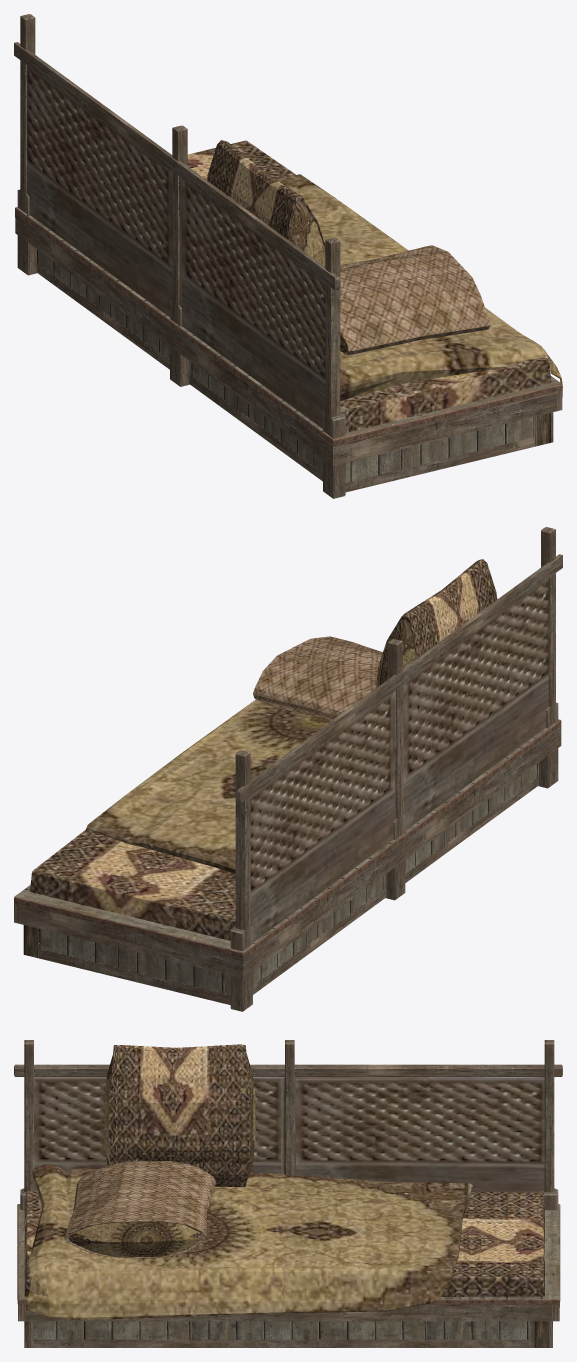
File: TW2_5_FUR_01_7-transformed.glb
3 renders of one model, top to bottom at view 1: azimuth 30°, elevation 25°; view 2: azimuth 150°, elevation 25°; view 3: azimuth 270°, elevation 25°, orthographic. The views are drawn at different scales.
Parts seen in each view (by area): view 1: default; view 2: default; view 3: default.
Part boxes in pixels (<box>): default: <box>14,14,562,498</box>; default: <box>14,527,562,1011</box>; default: <box>14,1040,562,1347</box>.
Size of the model in its own units: 1.58 by 1.59 by 3.59.
Materials: 3 (3 with a texture image).
